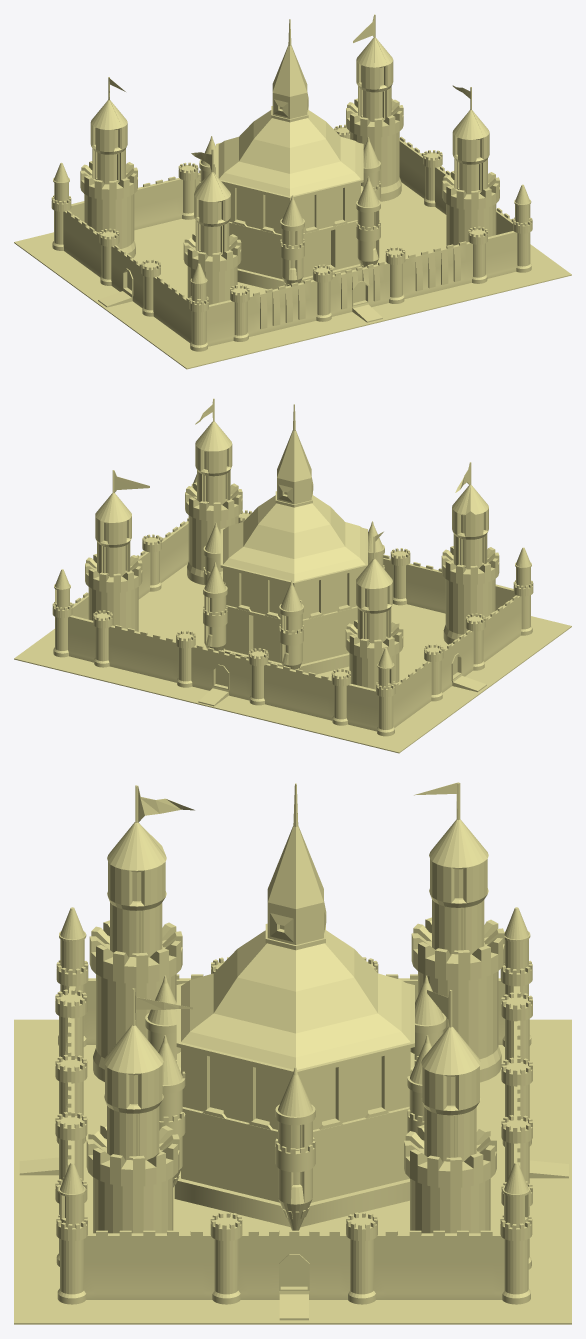
The model's file is castle.gltf.
3 views of the same model, one above another, from view 1: azimuth 30°, elevation 25°; view 2: azimuth 150°, elevation 25°; view 3: azimuth 270°, elevation 25° (orthographic). The views are drawn at different scales.
Parts seen in each view (by area): view 1: Cylinder007; view 2: Cylinder007; view 3: Cylinder007.
Boxes of the visible parts, x1,y1,x2,y2 form: Cylinder007: [14, 14, 571, 369]; Cylinder007: [14, 398, 571, 753]; Cylinder007: [14, 782, 571, 1324].
Bounding box in the file's own units: 16.46 × 9.8 × 12.79.
